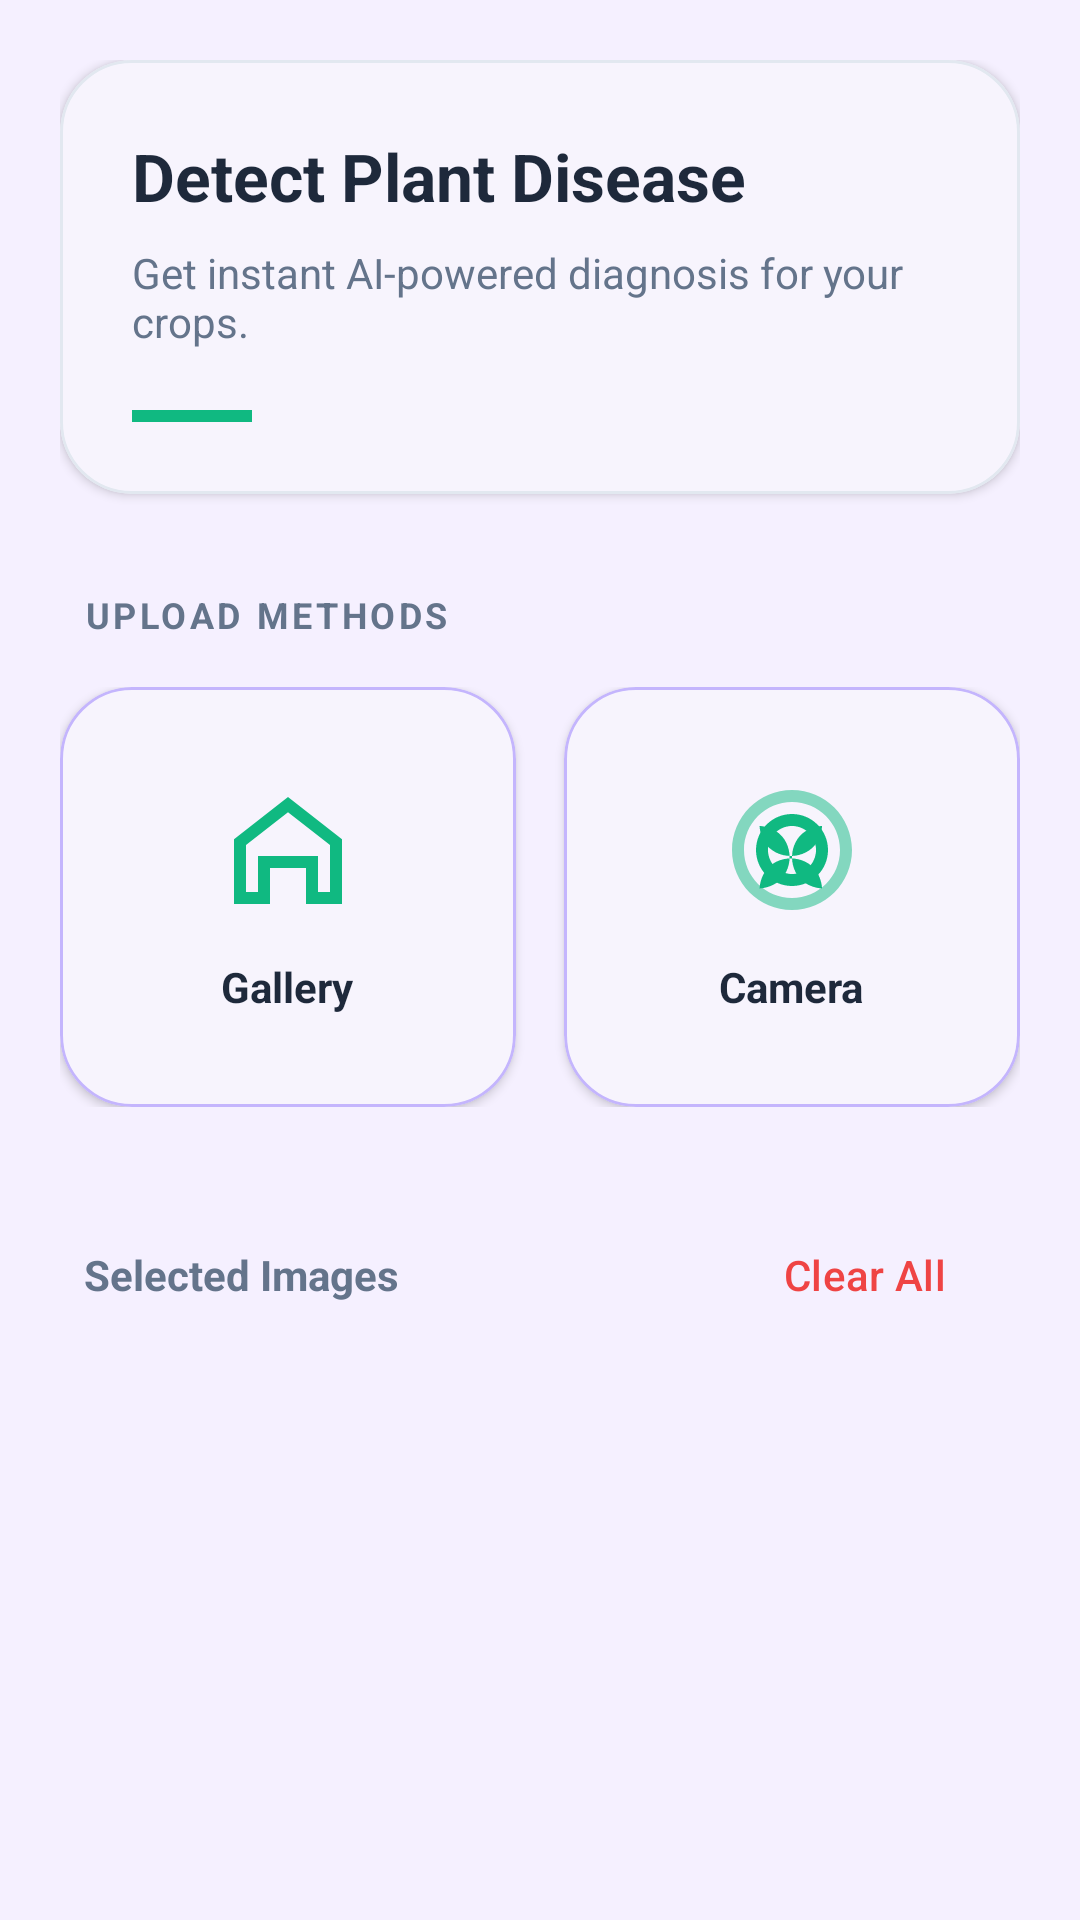

Icons on this 1080w x 1920h Android screen, each with the point to tap as (x,y):
home: (288,850)
